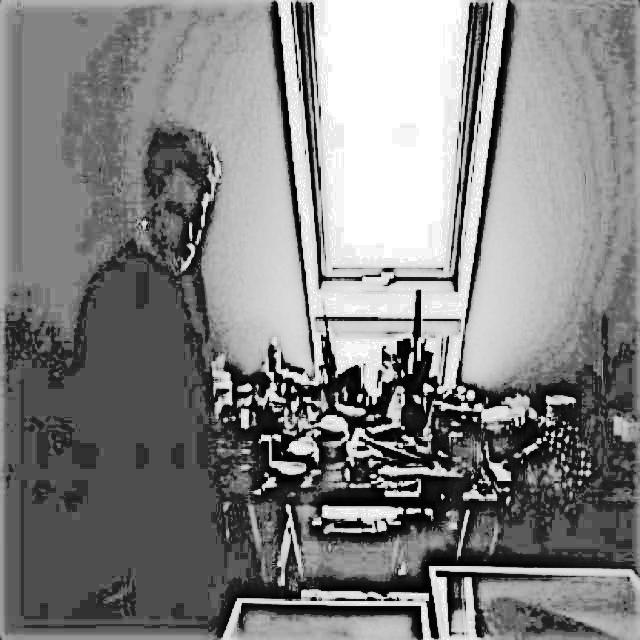Person: (74, 117, 227, 492)
